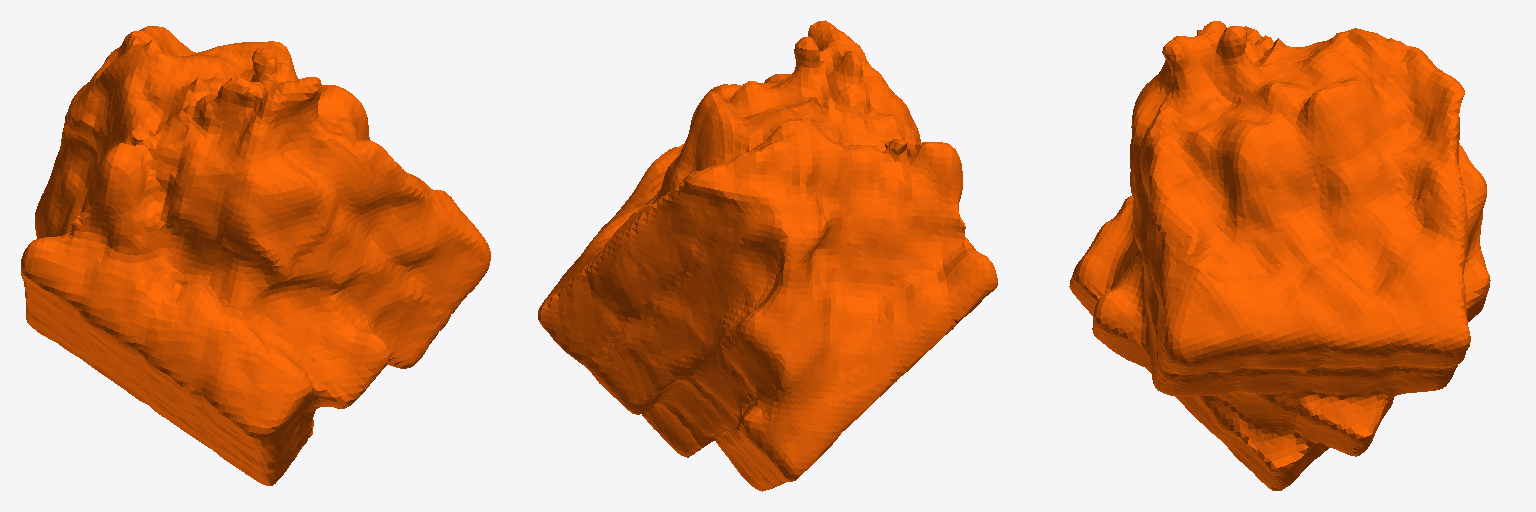
URDF robot description (6abf1a5ae):
<?xml version="1.0" ?>
<robot name="6abf1a5ae">
   <material name="obj_color">
      <color rgba="1.0 0.423529411765 0.0392156862745 1.0"/>
   </material>
   <link name="top">
      <inertial>
         <origin rpy="0.000470590425718484 0.0004906762860347564 0.0004991375976334968" xyz="0.00187718712618011 0.003115960579872697 0.001952677912365641"/>
         <mass value="0.4760187911180443"/>
         <inertia ixx="0.0004932469052854869" ixy="1.823752871411724e-06" ixz="1.097672798659222e-05" iyy="0.0004912464466749228" iyz="1.108652235338698e-06" izz="0.0004759109574263277"/>
      </inertial>
      <visual>
         <origin rpy="0 0 0" xyz="0 0 0"/>
         <geometry>
            <mesh filename="top_watertight_tiny.stl" scale="1 1 1"/>
         </geometry>
         <material name="obj_color"/>
      </visual>
      <collision>
         <origin rpy="0 0 0" xyz="0 0 0"/>
         <geometry>
            <mesh filename="top_watertight_tiny.obj" scale="1 1 1"/>
         </geometry>
      </collision>
   </link>
   <link name="bottom">
      <inertial>
         <origin rpy="1.633333333199431e-08 1.633333333199431e-08 1.633333333362855e-08" xyz="0.3464080000000008 0.3464080000000008 0.3464080000000008"/>
         <mass value="0.0009800000000000017"/>
         <inertia ixx="1.633333333253906e-08" ixy="5.447480642029219e-19" ixz="5.447480642029219e-19" iyy="1.633333333253906e-08" iyz="5.447480642029219e-19" izz="1.633333333253906e-08"/>
      </inertial>
      <visual>
         <origin rpy="0 0 0" xyz="0 0 0"/>
         <geometry>
            <mesh filename="bottom_watertight_tiny.stl" scale="1 1 1"/>
         </geometry>
         <material name="obj_color"/>
      </visual>
   </link>
   <link name="world"/>
   <joint name="world_to_base" type="fixed">
      <origin xyz="0 0 0"/>
      <axis xyz="0 0 0"/>
      <parent link="world"/>
      <child link="bottom"/>
   </joint>
   <joint name="rotation" type="revolute">
      <origin xyz="0 0 0"/>
      <axis xyz="0 0 -1"/>
      <parent link="bottom"/>
      <child link="top"/>
      <dynamics damping="1.0" friction="1.0"/>
      <limit effort="0.1" velocity="0.1" lower="0" upper="0.001"/>
   </joint>
</robot>

--- Render facts (derived) ---
Views: 3 orthographic renders of the robot side by side, from view 1: azimuth 30°, elevation 25°; view 2: azimuth 150°, elevation 25°; view 3: azimuth 270°, elevation 25°.
Robot: 6abf1a5ae — 3 links, 2 joints (1 revolute, 1 fixed); root link world; default pose: every joint at zero.
Links seen in each view (by area): view 1: top; view 2: top; view 3: top.
Boxes of the visible links, x1=… form: top: x1=21, y1=26, x2=490, y2=485; top: x1=538, y1=20, x2=997, y2=491; top: x1=1069, y1=21, x2=1490, y2=490.
Size in the robot's own frame: 0.1202 by 0.1067 by 0.1264 metres.
Meshes: 2 distinct files referenced, 1 mesh visuals loaded (1 binary STL); not drawn: 1 (reference not matched to a file when rendering).